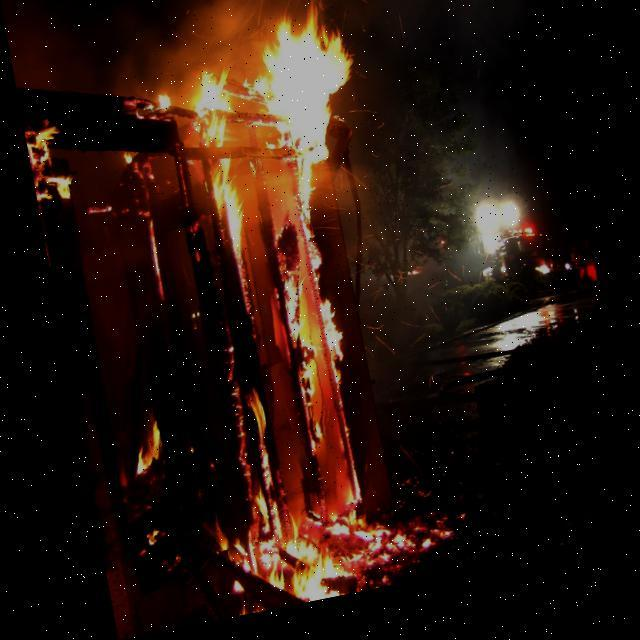Fire: (13, 0, 482, 638)
